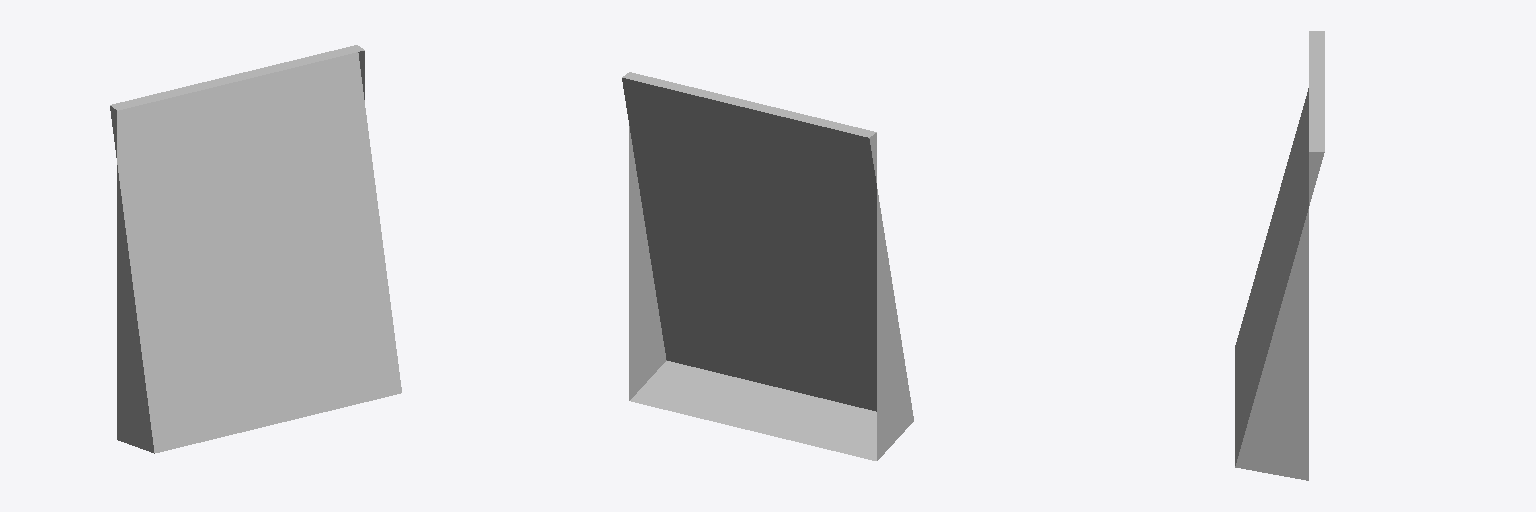
File: original-7.obj
3 views of the same model, side by side, from view 1: azimuth 30°, elevation 25°; view 2: azimuth 150°, elevation 25°; view 3: azimuth 270°, elevation 25° (orthographic).
Visible parts, largest first — view 1: #ID44; view 2: #ID44; view 3: #ID44.
Part boxes in pixels (x1,y1,x2,y2): #ID44: (110, 45, 401, 453); #ID44: (622, 72, 913, 460); #ID44: (1235, 31, 1324, 480).
Bounding box in the file's own units: 0.2678 × 0.3404 × 0.084.